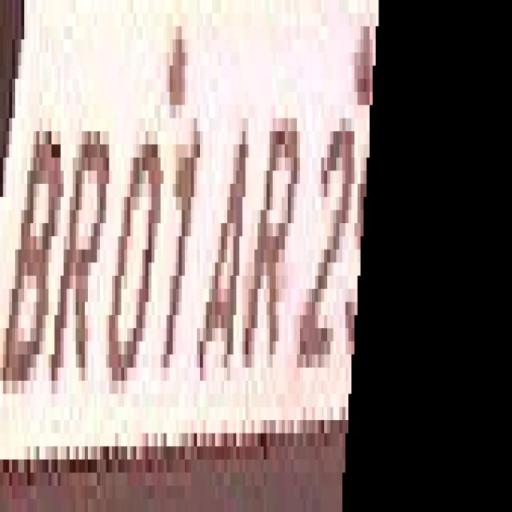number plate: (0, 13, 388, 460)
